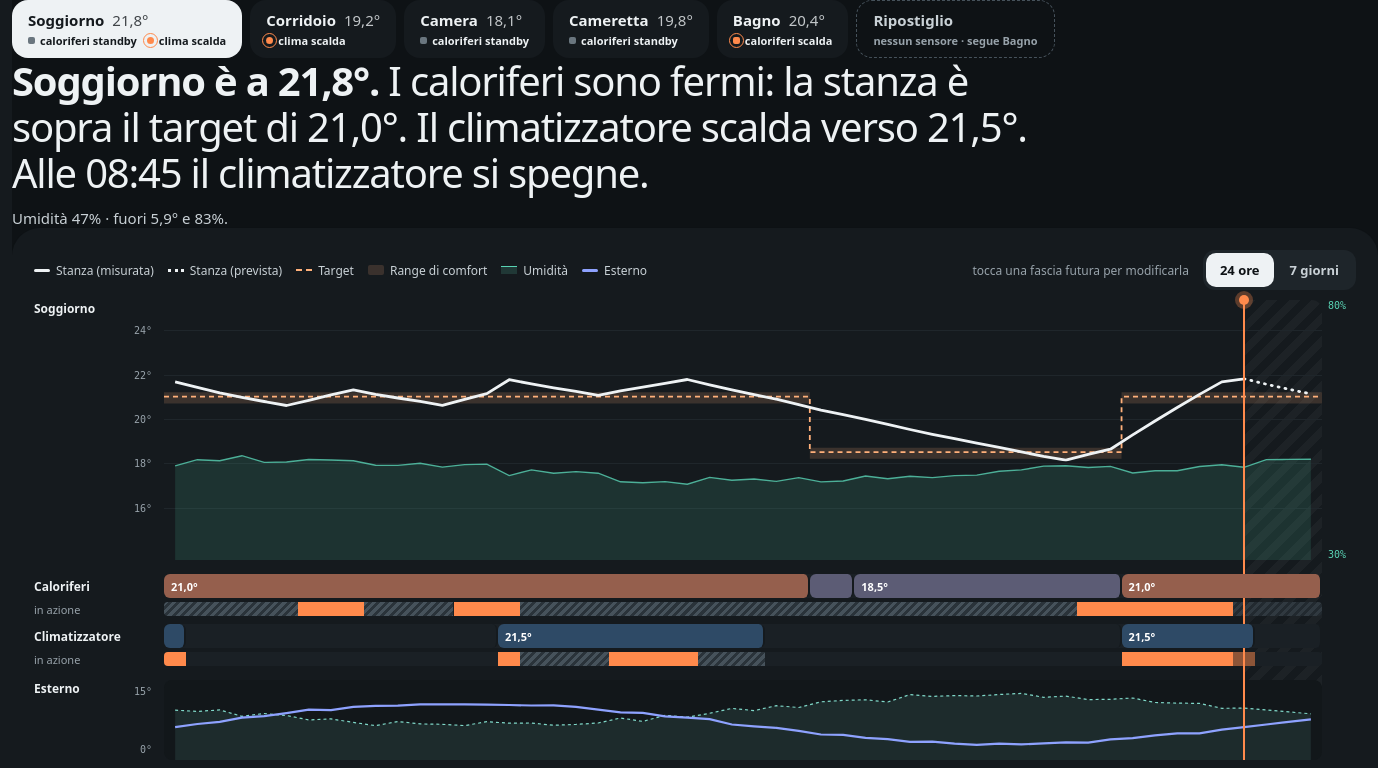
it: StanzaScreen › switches to 7 days from the range selector
The width and height of the screenshot is (1378, 768).
Click the button "7 giorni".
click(1314, 270)  # box [1276, 253, 1353, 287]
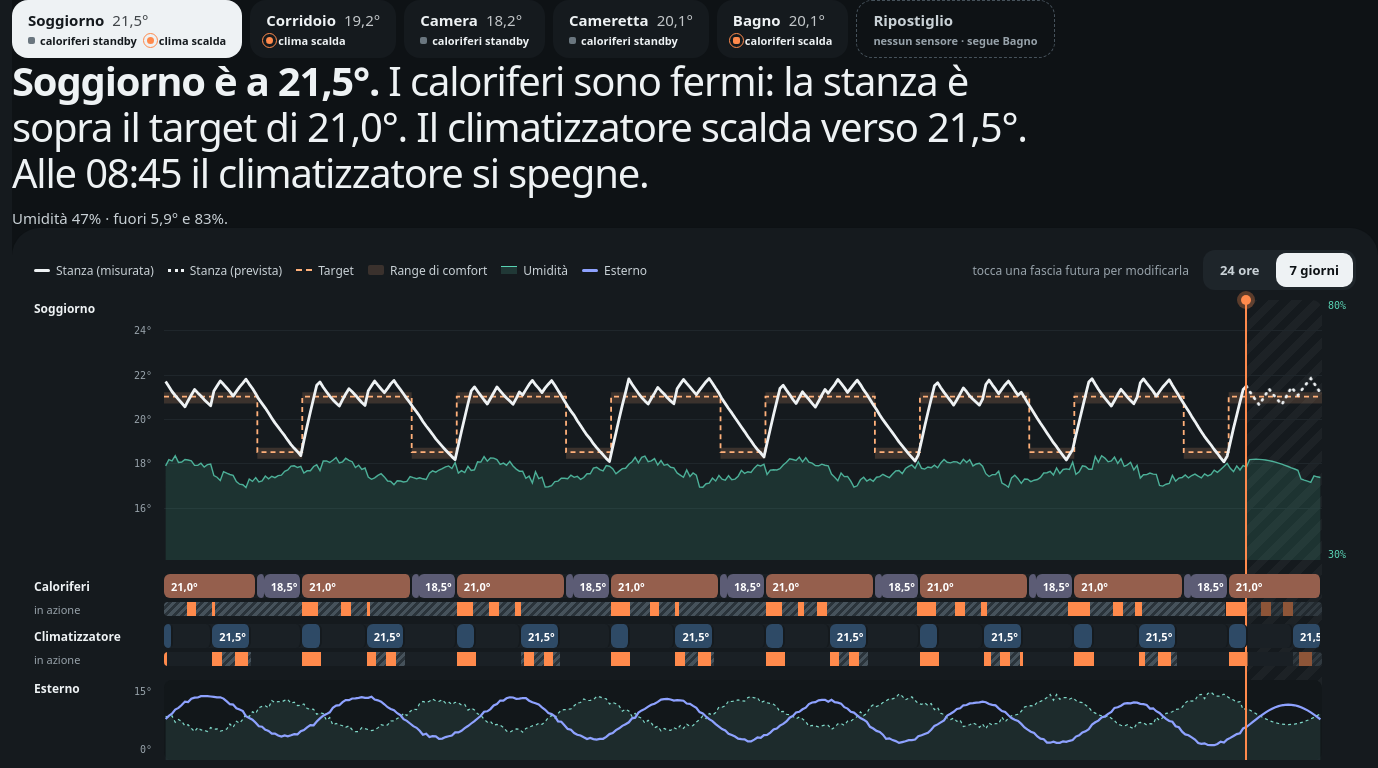
Result: the button "7 giorni" is pressed at [1276, 253, 1353, 287]
